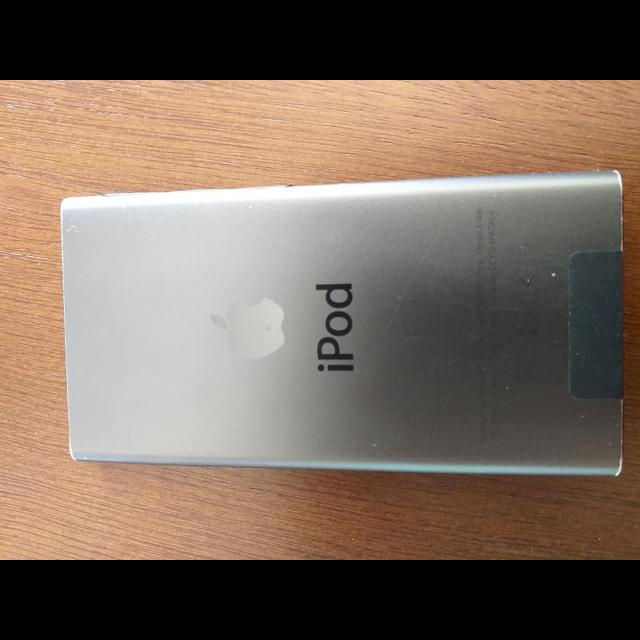Music-Player: (55, 159, 639, 477)
